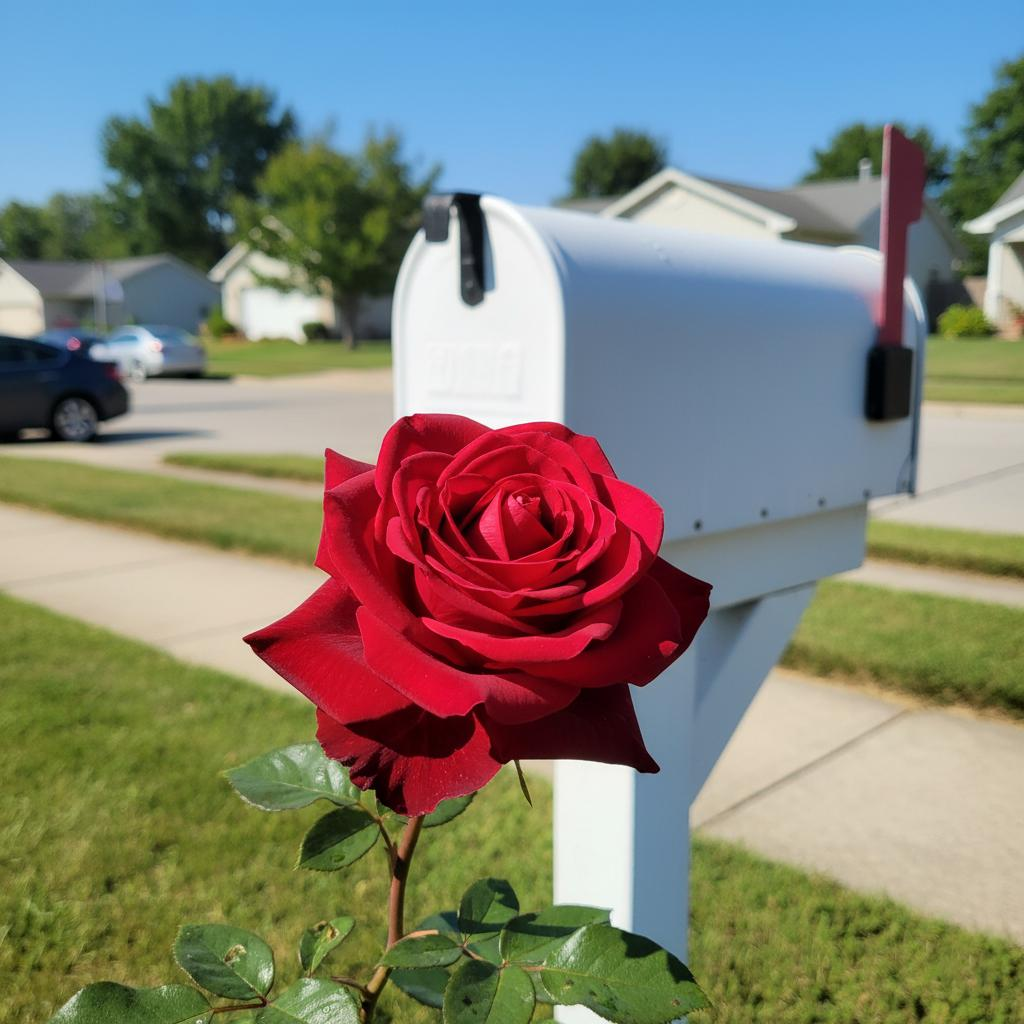rose: (241, 409, 714, 818)
